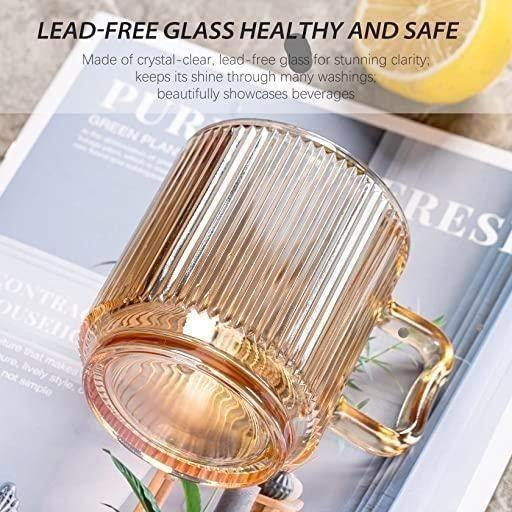glass-mug: (61, 114, 460, 494)
